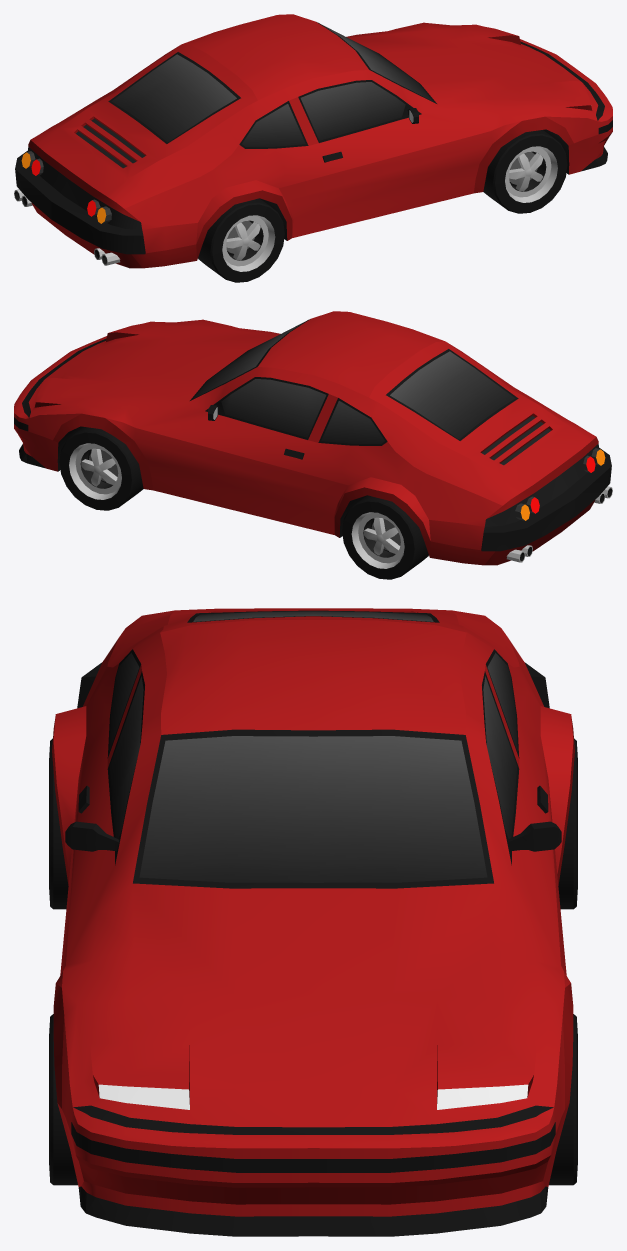
File: Car_177.glb
3 views of the same model, one above another, from view 1: azimuth 30°, elevation 25°; view 2: azimuth 150°, elevation 25°; view 3: azimuth 270°, elevation 25° (orthographic). The views are drawn at different scales.
Visible parts, largest first — view 1: Car_177, wheel_3_Car_177_Wheel_2R, wheel_1_Car_177_Wheel_1R; view 2: Car_177, wheel_2_Car_177_Wheel_2L, wheel_0_Car_177_Wheel_1L; view 3: Car_177, wheel_0_Car_177_Wheel_1L, wheel_1_Car_177_Wheel_1R, wheel_2_Car_177_Wheel_2L, wheel_3_Car_177_Wheel_2R.
Part boxes in pixels (box(x1,y1,x2,y2)): Car_177: box(14, 14, 612, 268); wheel_3_Car_177_Wheel_2R: box(198, 198, 284, 282); wheel_1_Car_177_Wheel_1R: box(483, 130, 567, 213); Car_177: box(14, 311, 612, 565); wheel_2_Car_177_Wheel_2L: box(342, 495, 428, 579); wheel_0_Car_177_Wheel_1L: box(59, 427, 143, 510); Car_177: box(52, 608, 574, 1236); wheel_0_Car_177_Wheel_1L: box(549, 1014, 577, 1185); wheel_1_Car_177_Wheel_1R: box(49, 1014, 77, 1185); wheel_2_Car_177_Wheel_2L: box(558, 738, 577, 909); wheel_3_Car_177_Wheel_2R: box(49, 738, 68, 909).
Bounding box in the file's own units: 4.64 × 1.41 × 2.02.
2 materials, 2 textured.
